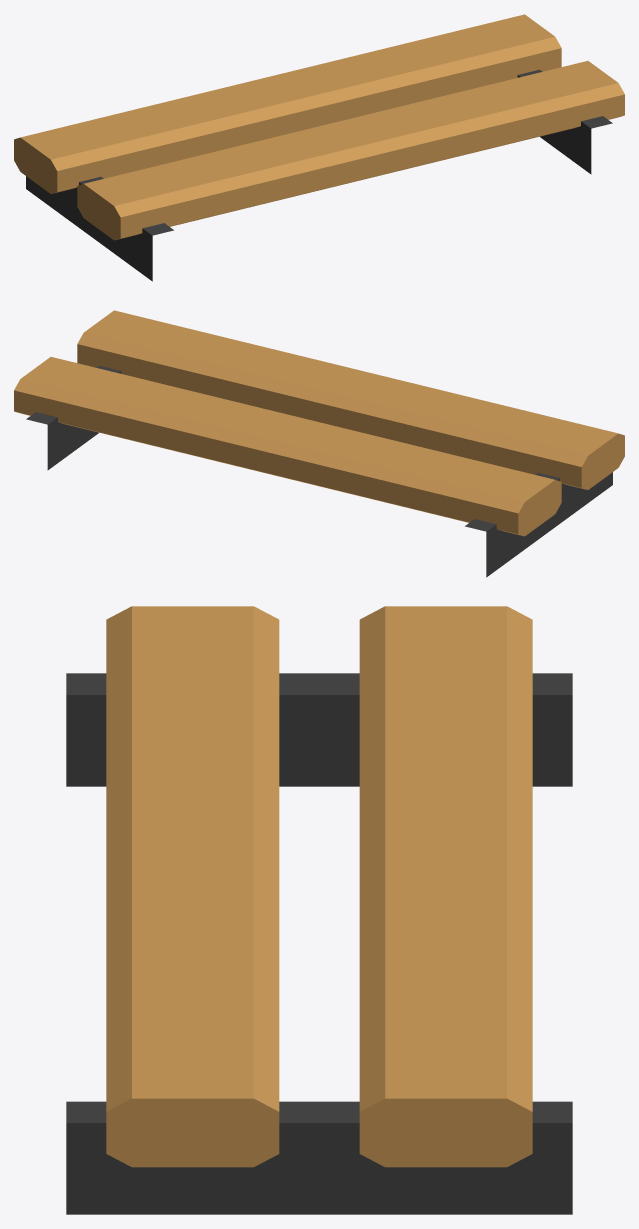
File: wooden-bridge-section.glb
The picture shows the model from 3 angles, top to bottom: view 1: azimuth 30°, elevation 25°; view 2: azimuth 150°, elevation 25°; view 3: azimuth 270°, elevation 25°; orthographic projection. The views are drawn at different scales.
Visible parts, largest first — view 1: wooden bridge section; view 2: wooden bridge section; view 3: wooden bridge section.
Boxes of the visible parts, bbox=[...] form: wooden bridge section: bbox=[14, 14, 624, 281]; wooden bridge section: bbox=[14, 310, 624, 577]; wooden bridge section: bbox=[66, 606, 572, 1214].
Size of the model in its own units: 4.6 by 0.6 by 2.
Materials: 1 (1 with a texture image).
